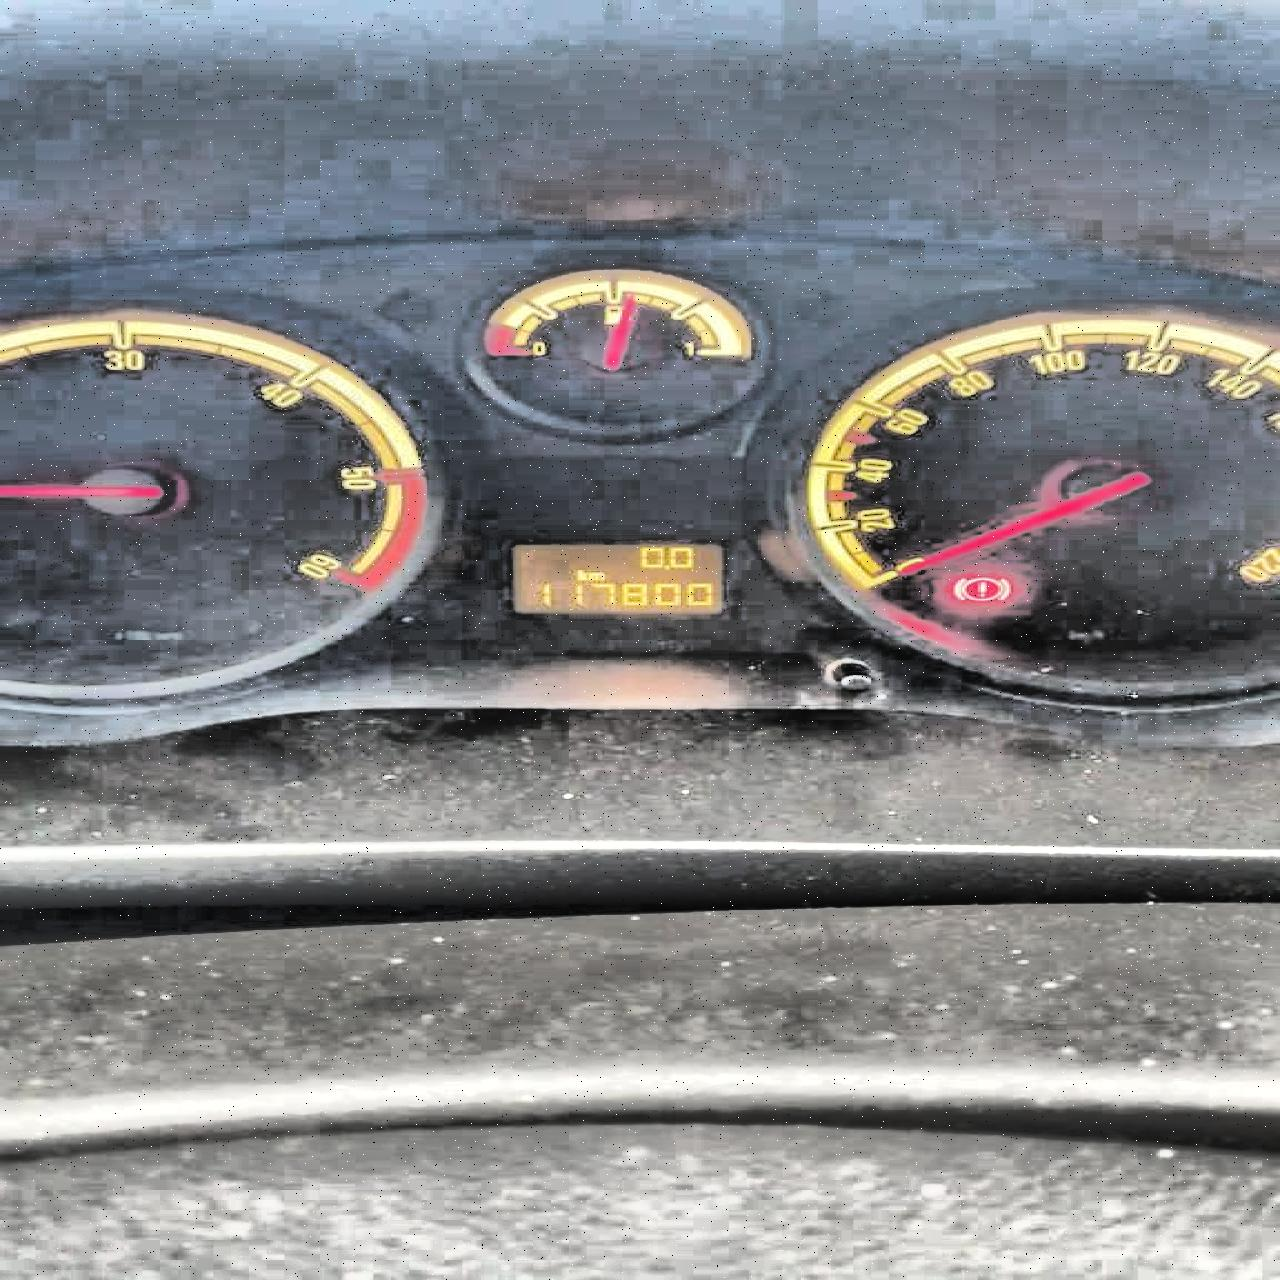-: (662, 563, 669, 570)
0: (651, 580, 680, 606), (685, 581, 712, 606), (667, 545, 693, 568), (638, 545, 662, 567)
1: (539, 581, 553, 606), (571, 581, 583, 606)
7: (586, 583, 615, 604)
8: (620, 581, 647, 605)
X: (586, 570, 605, 580), (576, 567, 586, 580)
odometer: (501, 535, 729, 614)
